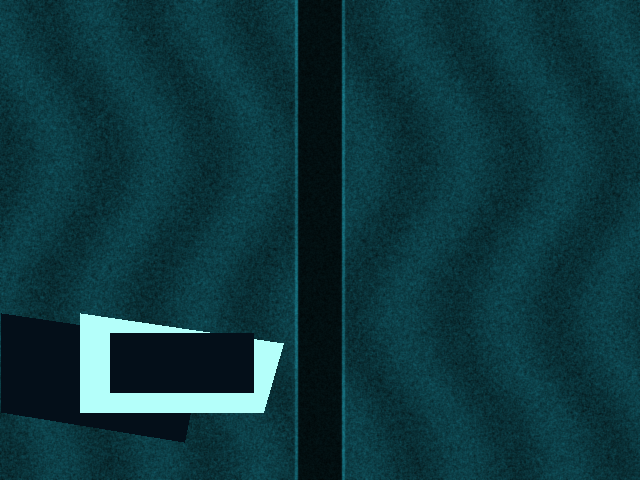Ship/Boat Debris: (80, 313, 283, 412)
